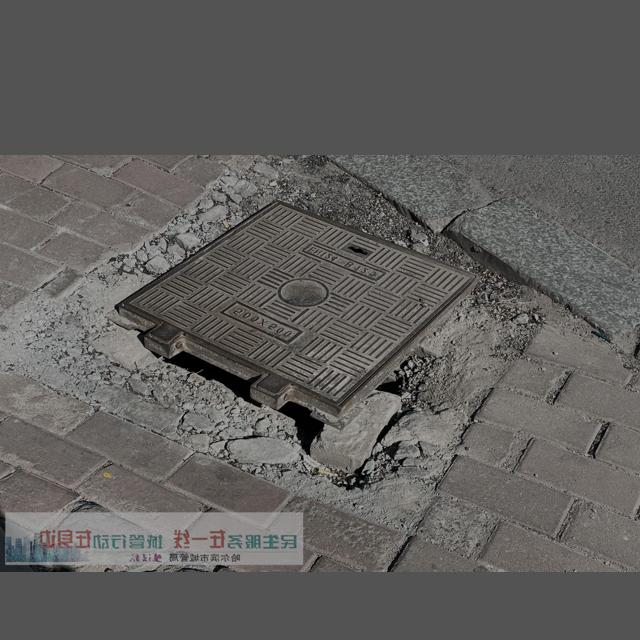circle: (34, 197, 545, 488)
